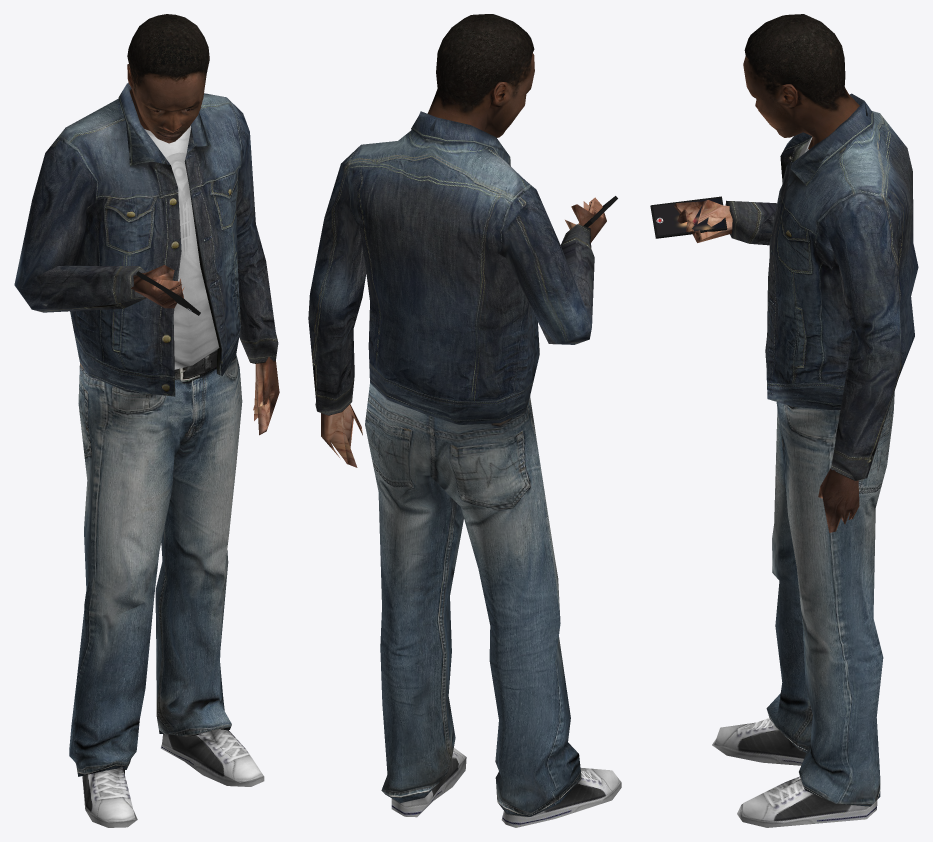
The model's file is PasserBy_Phone_LOD1.obj.
3 renders of one model, left to right at view 1: azimuth 30°, elevation 25°; view 2: azimuth 150°, elevation 25°; view 3: azimuth 270°, elevation 25°, orthographic. The views are drawn at different scales.
Parts seen in each view (by area): view 1: Body, Head; view 2: Body, Head; view 3: Body, Head, PropScreen.
Part boxes in pixels (left/top/right/bottom): Body: left=14, top=82, right=279, bottom=827; Head: left=127, top=14, right=209, bottom=143; Body: left=308, top=111, right=621, bottom=827; Head: left=427, top=14, right=534, bottom=137; Body: left=674, top=93, right=918, bottom=827; Head: left=743, top=14, right=859, bottom=149; PropScreen: left=653, top=198, right=724, bottom=235.
Bounding box in the file's own units: 0.6407 × 1.77 × 0.5569.
Materials: 4 (4 with a texture image).
